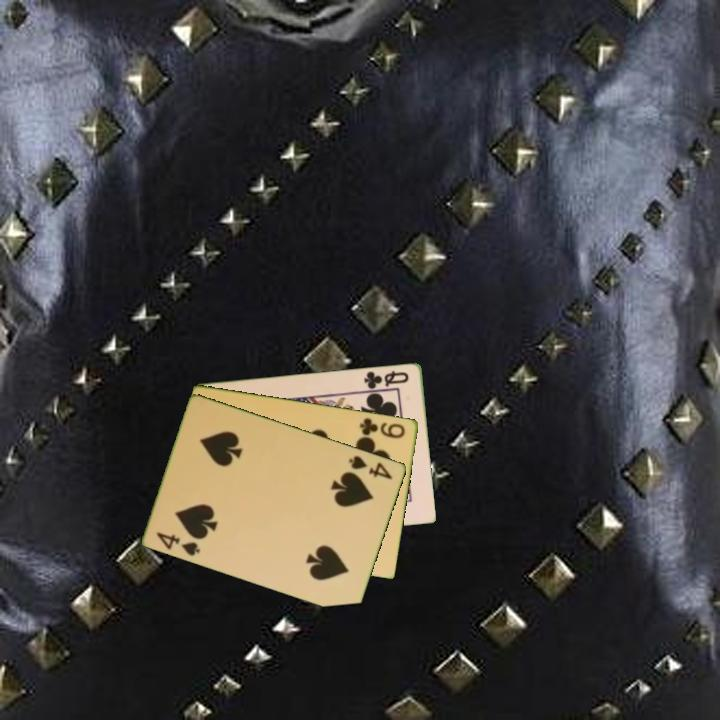4s: (153, 528, 203, 559), (345, 452, 395, 482)
9c: (357, 414, 408, 441)
Qc: (361, 367, 412, 392)
